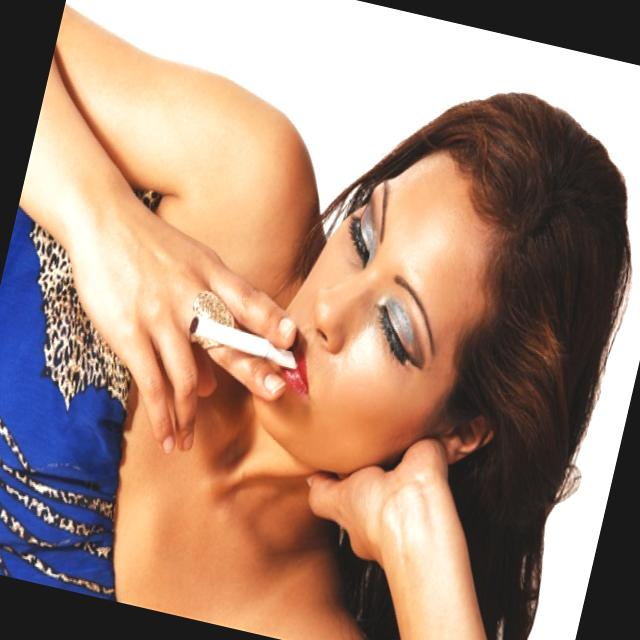smoke: (182, 305, 306, 379)
